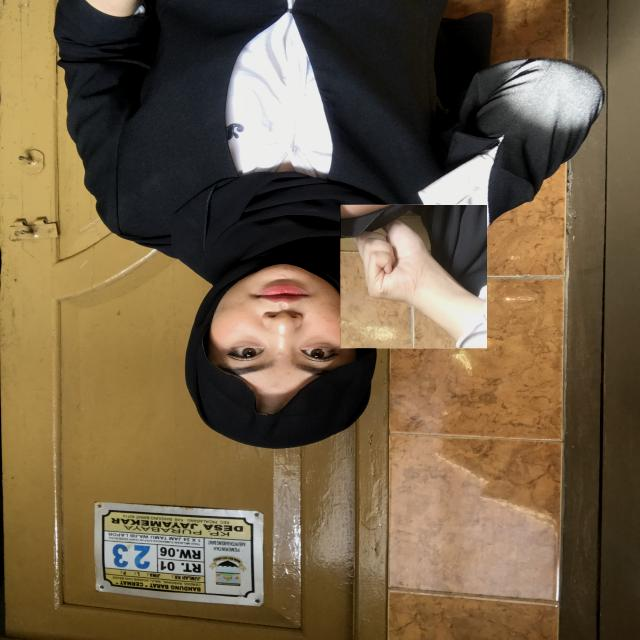ibu: (341, 204, 487, 349)
